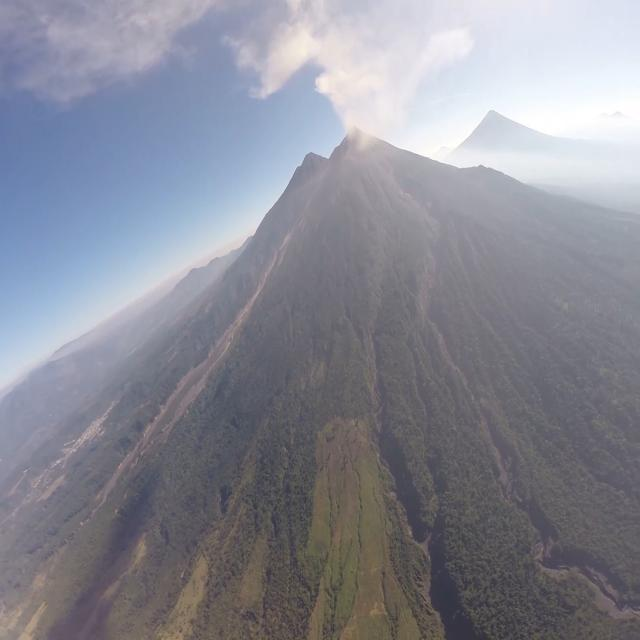Summit: (336, 122, 377, 150)
